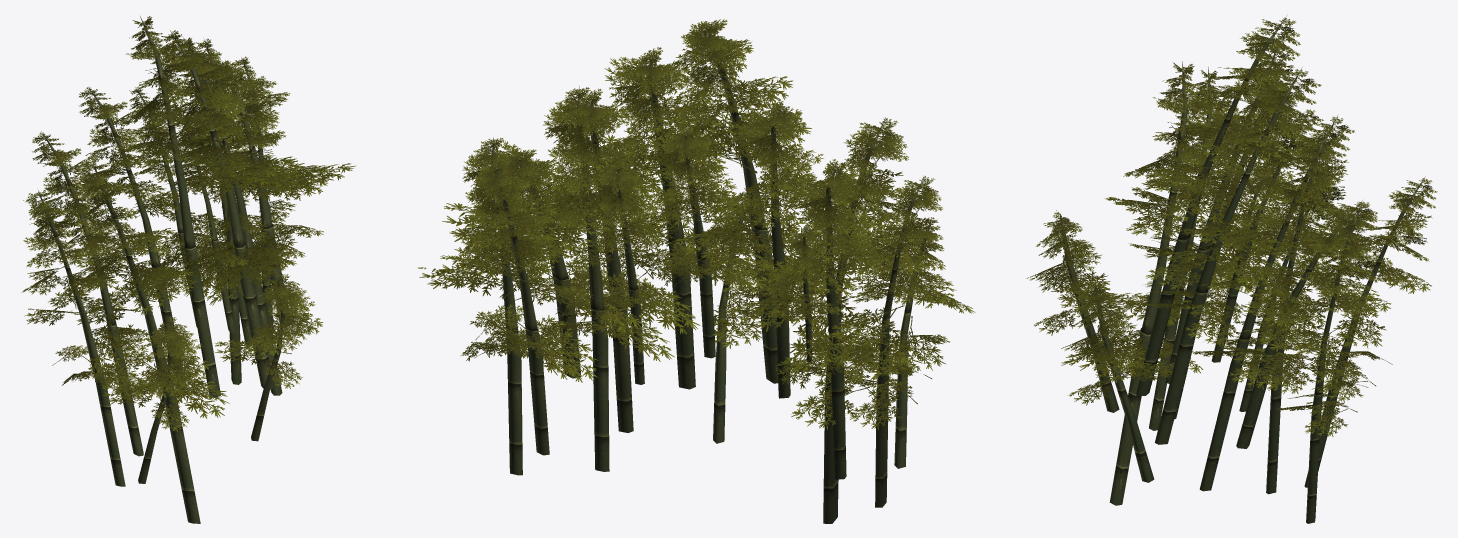
The model's file is Area_03_5.fbx.
The picture shows the model from 3 angles, left to right: view 1: azimuth 30°, elevation 25°; view 2: azimuth 150°, elevation 25°; view 3: azimuth 270°, elevation 25°; orthographic projection. The views are drawn at different scales.
Visible parts, largest first — view 1: Area_03_5; view 2: Area_03_5; view 3: Area_03_5.
Boxes of the visible parts, x1,y1,x2,y2 form: Area_03_5: (21,16,355,523); Area_03_5: (418,19,975,523); Area_03_5: (1026,16,1437,523).
Size of the model in its own units: 2794 by 3040 by 2360.
